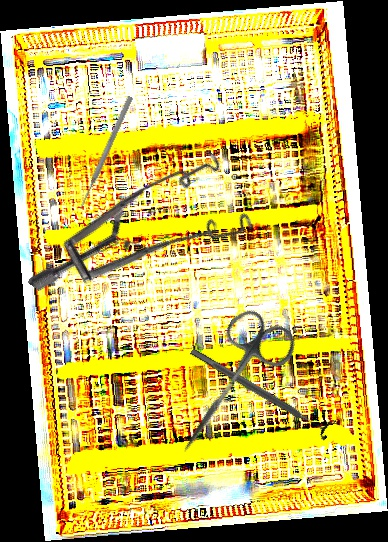Fixation Ring: (185, 339, 337, 443)
Iris Scissors: (157, 301, 303, 473)
Pusher: (76, 95, 135, 211)
Speculum: (27, 111, 274, 371)
